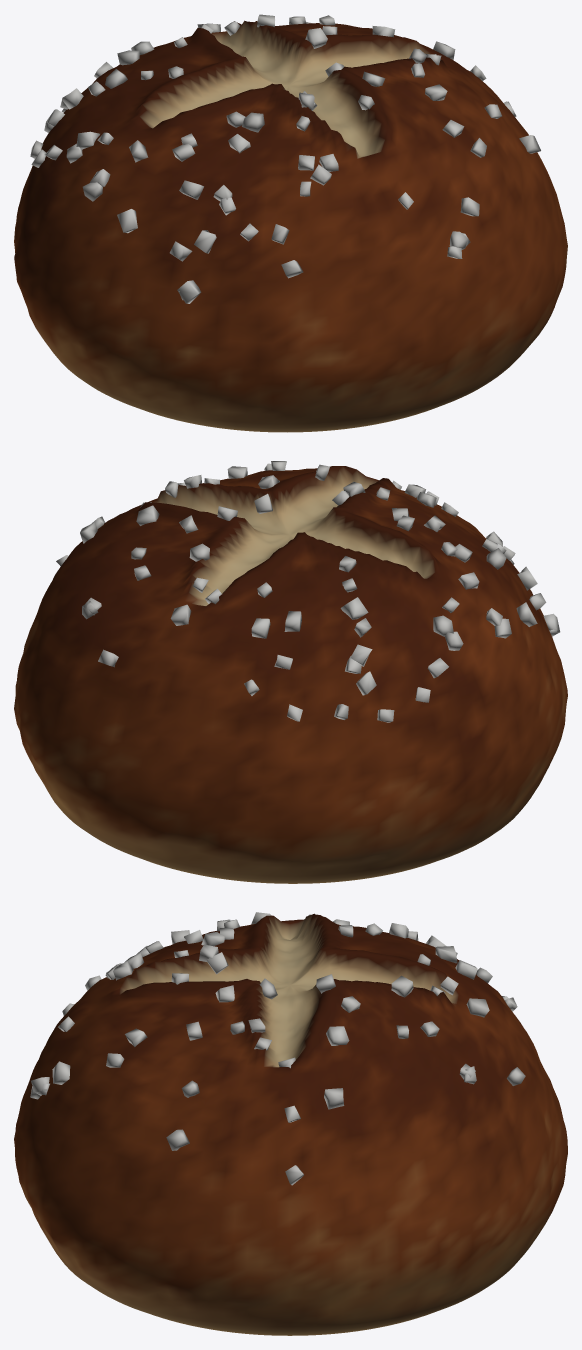
File: laugenbroetchen.glb
3 renders of one model, top to bottom at view 1: azimuth 30°, elevation 25°; view 2: azimuth 150°, elevation 25°; view 3: azimuth 270°, elevation 25°, orthographic.
Parts seen in each view (by area): view 1: laugenbroetchen; view 2: laugenbroetchen; view 3: laugenbroetchen.
Boxes of the visible parts, x1,y1,x2,y2 form: laugenbroetchen: [14, 14, 567, 432]; laugenbroetchen: [14, 461, 567, 883]; laugenbroetchen: [14, 912, 567, 1335].
Bounding box in the file's own units: 0.09 × 0.0516 × 0.09.
